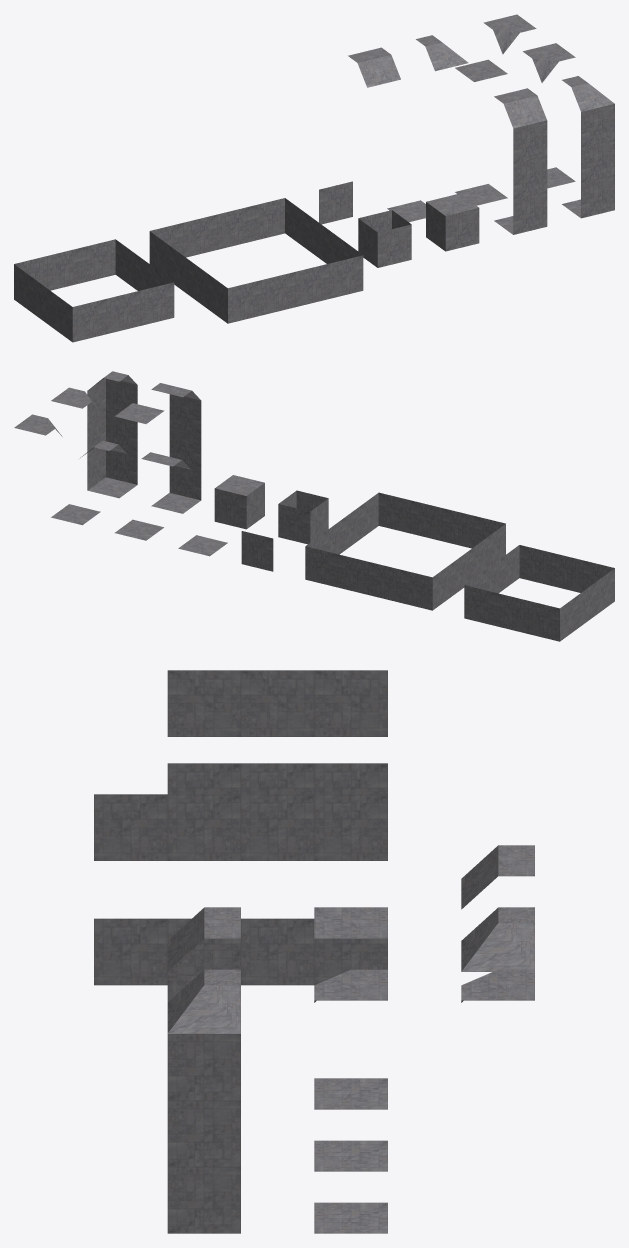
The model's file is metalTiles.glb.
3 views of the same model, one above another, from view 1: azimuth 30°, elevation 25°; view 2: azimuth 150°, elevation 25°; view 3: azimuth 270°, elevation 25° (orthographic). The views are drawn at different scales.
Parts seen in each view (by area): view 1: big4Tube-col, big3Tube-col, wall-col, wallEdge-col, cube-col, tube-col, roof-col, roofEdge-col, wallRoof-col, singleSheetVertical-col, soleRoofEdge-col, wallEdgeRoof-col (+1 smaller); view 2: big4Tube-col, big3Tube-col, wallEdge-col, wall-col, cube-col, tube-col, roof-col, roofEdge-col, singleSheetVertical-col, singleSheetHorizontal-col, soleRoofEdge-col, wallRoof-col; view 3: big4Tube-col, big3Tube-col, wallEdge-col, roof-col, roofEdge-col, wallEdgeRoof-col, singleSheetHorizontal-col, wallRoof-col, wall-col, soleRoofEdge-col, tube-col.
Boxes of the visible parts, <box> form: big4Tube-col: <box>149,198,363,323</box>; big3Tube-col: <box>14,239,174,342</box>; wall-col: <box>494,88,547,234</box>; wallEdge-col: <box>562,76,614,218</box>; cube-col: <box>426,193,479,251</box>; tube-col: <box>358,210,411,267</box>; roof-col: <box>455,59,507,205</box>; roofEdge-col: <box>523,43,575,188</box>; wallRoof-col: <box>348,47,400,87</box>; singleSheetVertical-col: <box>319,181,352,224</box>; soleRoofEdge-col: <box>483,14,536,54</box>; wallEdgeRoof-col: <box>416,35,468,71</box>; big4Tube-col: <box>305,492,505,610</box>; big3Tube-col: <box>464,545,614,641</box>; wallEdge-col: <box>87,371,137,498</box>; wall-col: <box>151,383,201,513</box>; cube-col: <box>214,475,264,529</box>; tube-col: <box>278,490,328,544</box>; roof-col: <box>114,403,164,540</box>; roofEdge-col: <box>51,387,100,525</box>; singleSheetVertical-col: <box>241,531,273,571</box>; singleSheetHorizontal-col: <box>178,535,227,556</box>; soleRoofEdge-col: <box>14,414,62,436</box>; wallRoof-col: <box>141,452,190,469</box>; big4Tube-col: <box>94,794,387,985</box>; big3Tube-col: <box>167,670,387,794</box>; wallEdge-col: <box>167,969,240,1233</box>; roof-col: <box>314,907,387,1171</box>; roofEdge-col: <box>314,969,387,1233</box>; wallEdgeRoof-col: <box>461,907,534,971</box>; singleSheetHorizontal-col: <box>314,1078,387,1109</box>; wallRoof-col: <box>461,845,534,909</box>; wall-col: <box>167,907,240,971</box>; soleRoofEdge-col: <box>461,969,534,1002</box>; tube-col: <box>167,949,240,1002</box>.
Bounding box in the file's own units: 16 × 3.5 × 6.
Materials: 1 (1 with a texture image).
